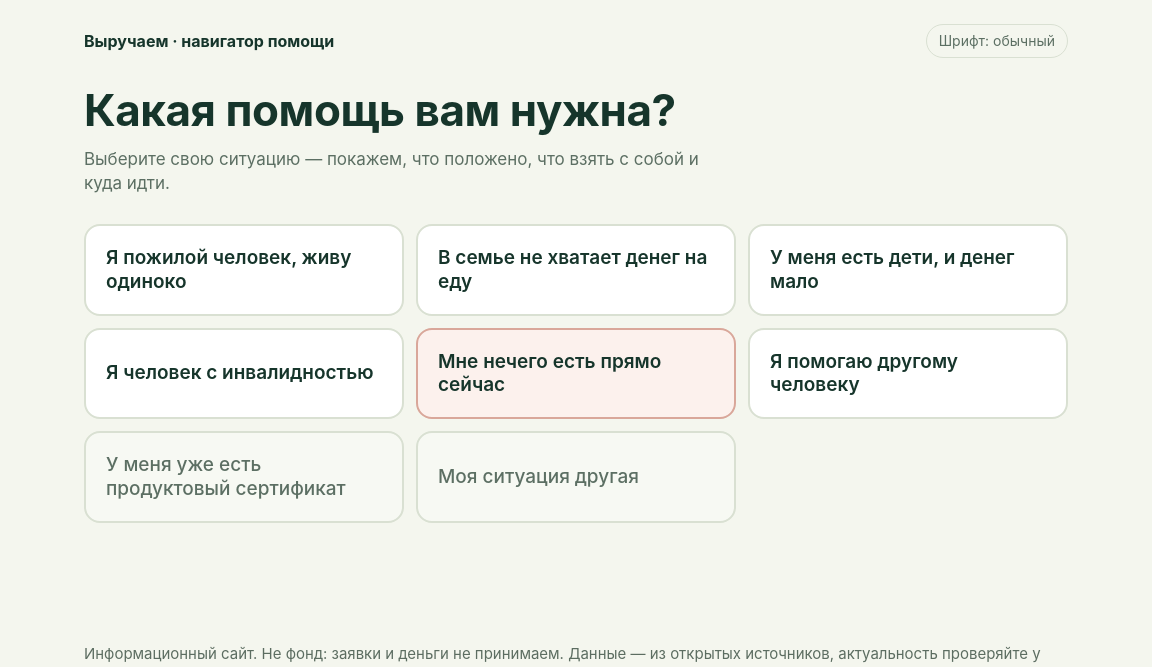
it: приложение › для «другая ситуация» показывает только маршруты
Step 1. Click the button "Моя ситуация другая" → click(576, 477), box [416,431,736,523]
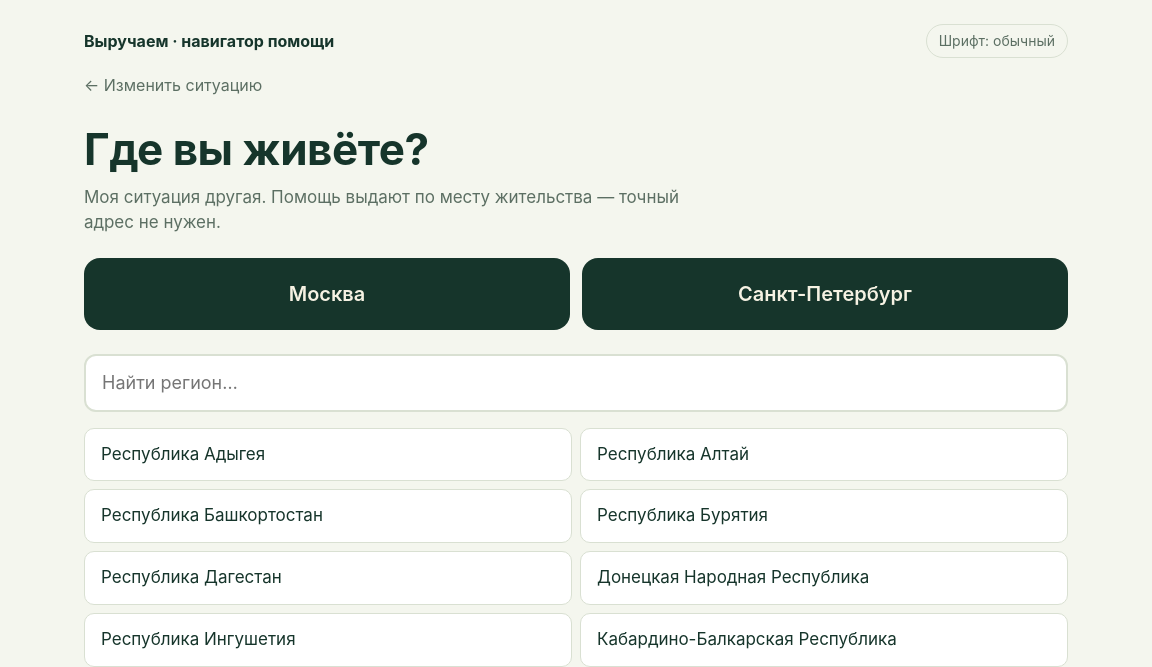
Step 2. Click the button "Москва" → click(327, 294), box [84,258,570,330]
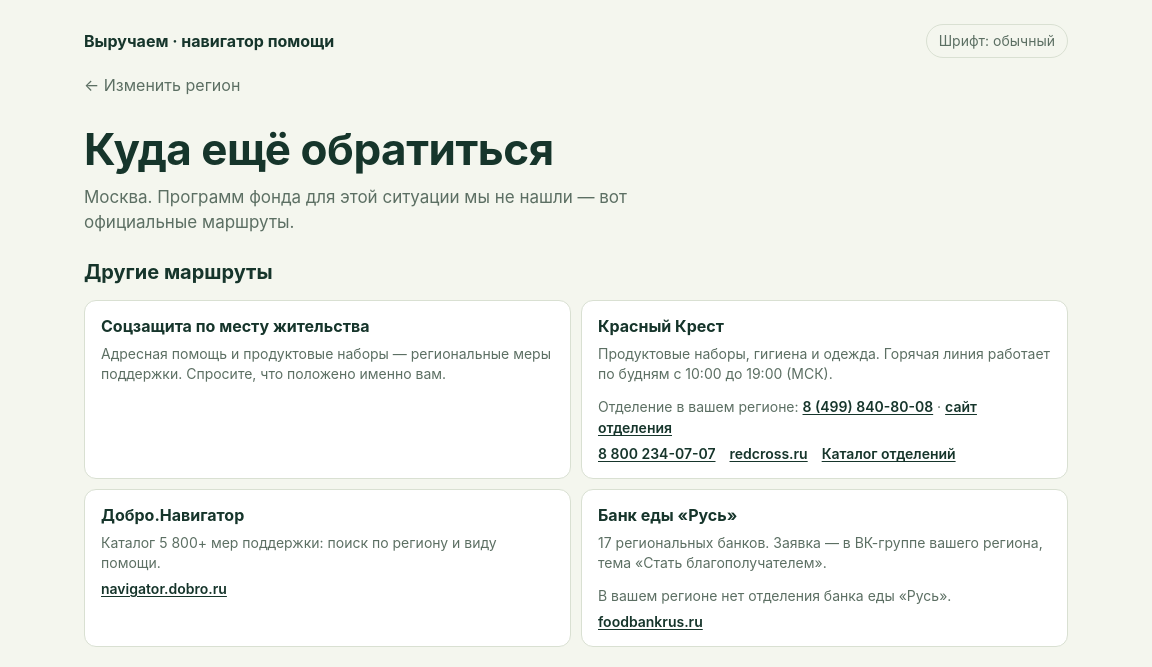
Expected: the heading "Куда ещё обратиться" is shown, [84,122,554,176]
Expected: the text "Добро.Навигатор" is shown, [101,505,244,525]
